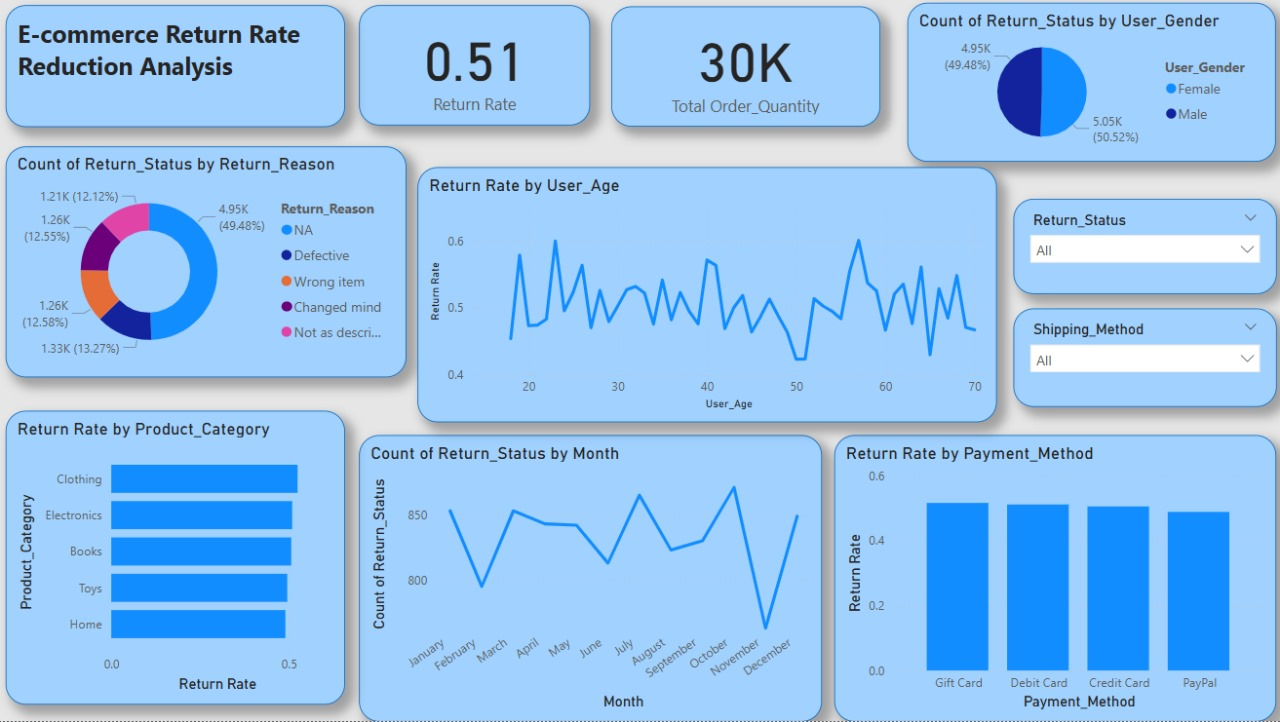

The dashboard page shown, as its layout file describes it:
{"tool":"powerbi","page":{"name":"Page 1","canvas":[1280,720],"ordinal":0},"visuals":[{"type":"donutChart","fields":{"Category":["ecommerce_returns_synthetic_data.Return_Reason"],"Y":["CountNonNull(ecommerce_returns_synthetic_data.Return_Status)"]},"box":[8.2,150.9,396.6,229.2],"z":0},{"type":"lineChart","fields":{"Category":["ecommerce_returns_synthetic_data.Order_Date.Variation.Date Hierarchy.Year","ecommerce_returns_synthetic_data.Order_Date.Variation.Date Hierarchy.Month"],"Y":["CountNonNull(ecommerce_returns_synthetic_data.Return_Status)"]},"box":[358.1,436.4,458.3,284],"z":1000},{"type":"clusteredColumnChart","fields":{"Category":["ecommerce_returns_synthetic_data.Payment_Method"],"Y":["ecommerce_returns_synthetic_data.Return Rate"]},"box":[828.8,436.4,437.7,284],"z":2000},{"type":"pieChart","fields":{"Category":["ecommerce_returns_synthetic_data.User_Gender"],"Y":["CountNonNull(ecommerce_returns_synthetic_data.Return_Status)"]},"box":[901.5,8.2,365,157.8],"z":3000},{"type":"clusteredBarChart","fields":{"Category":["ecommerce_returns_synthetic_data.Product_Category"],"Y":["ecommerce_returns_synthetic_data.Return Rate"]},"box":[8.2,413,336.2,290.9],"z":4000},{"type":"slicer","fields":{"Values":["ecommerce_returns_synthetic_data.Return_Status"]},"box":[1005.8,203.1,260.7,94.7],"z":5000},{"type":"card","fields":{"Values":["ecommerce_returns_synthetic_data.Return Rate"]},"box":[358.1,11,229.2,119.4],"z":6000},{"type":"slicer","fields":{"Values":["ecommerce_returns_synthetic_data.Shipping_Method"]},"box":[1005.8,311.5,260.7,97.4],"z":7000},{"type":"lineChart","fields":{"Category":["ecommerce_returns_synthetic_data.User_Age"],"Y":["ecommerce_returns_synthetic_data.Return Rate"]},"box":[415.8,171.5,573.6,252.5],"z":8000},{"type":"textbox","box":[8.2,11,336.2,120.8],"z":9000},{"type":"card","fields":{"Values":["Sum(ecommerce_returns_synthetic_data.Order_Quantity)"]},"box":[607.9,12.3,266.2,119.4],"z":10000}]}

Visuals, with their boxes in screenshot pixels (x1, y1, x2, y2), scaled from the page's 1280x720 canvas onto the 1280x722 screenshot:
donutChart - ecommerce_returns_synthetic_data.Return_Reason x CountNonNull(ecommerce_returns_synthetic_data.Return_Status): Rect(8, 151, 405, 381)
lineChart - ecommerce_returns_synthetic_data.Order_Date.Variation.Date Hierarchy.Year x ecommerce_returns_synthetic_data.Order_Date.Variation.Date Hierarchy.Month: Rect(358, 438, 816, 721)
clusteredColumnChart - ecommerce_returns_synthetic_data.Payment_Method x ecommerce_returns_synthetic_data.Return Rate: Rect(829, 438, 1266, 721)
pieChart - ecommerce_returns_synthetic_data.User_Gender x CountNonNull(ecommerce_returns_synthetic_data.Return_Status): Rect(902, 8, 1266, 166)
clusteredBarChart - ecommerce_returns_synthetic_data.Product_Category x ecommerce_returns_synthetic_data.Return Rate: Rect(8, 414, 344, 706)
slicer - ecommerce_returns_synthetic_data.Return_Status: Rect(1006, 204, 1266, 299)
card - ecommerce_returns_synthetic_data.Return Rate: Rect(358, 11, 587, 131)
slicer - ecommerce_returns_synthetic_data.Shipping_Method: Rect(1006, 312, 1266, 410)
lineChart - ecommerce_returns_synthetic_data.User_Age x ecommerce_returns_synthetic_data.Return Rate: Rect(416, 172, 989, 425)
textbox: Rect(8, 11, 344, 132)
card - Sum(ecommerce_returns_synthetic_data.Order_Quantity): Rect(608, 12, 874, 132)
